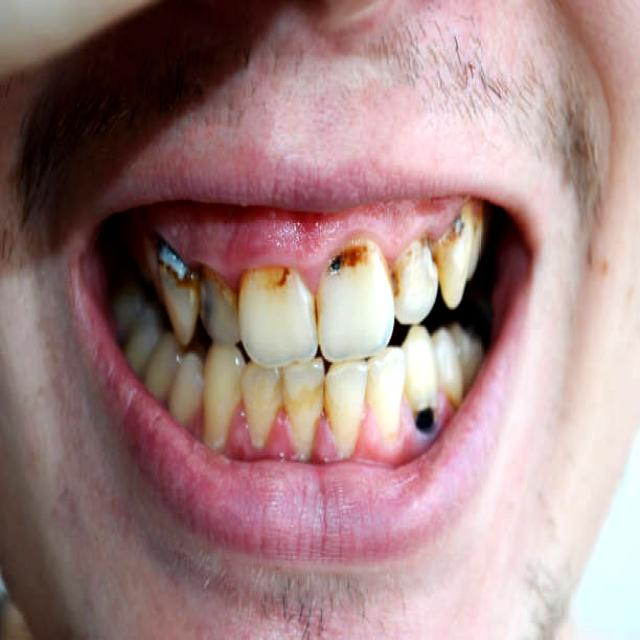cariess: (329, 218, 478, 270), (158, 260, 238, 344), (416, 409, 433, 432)
